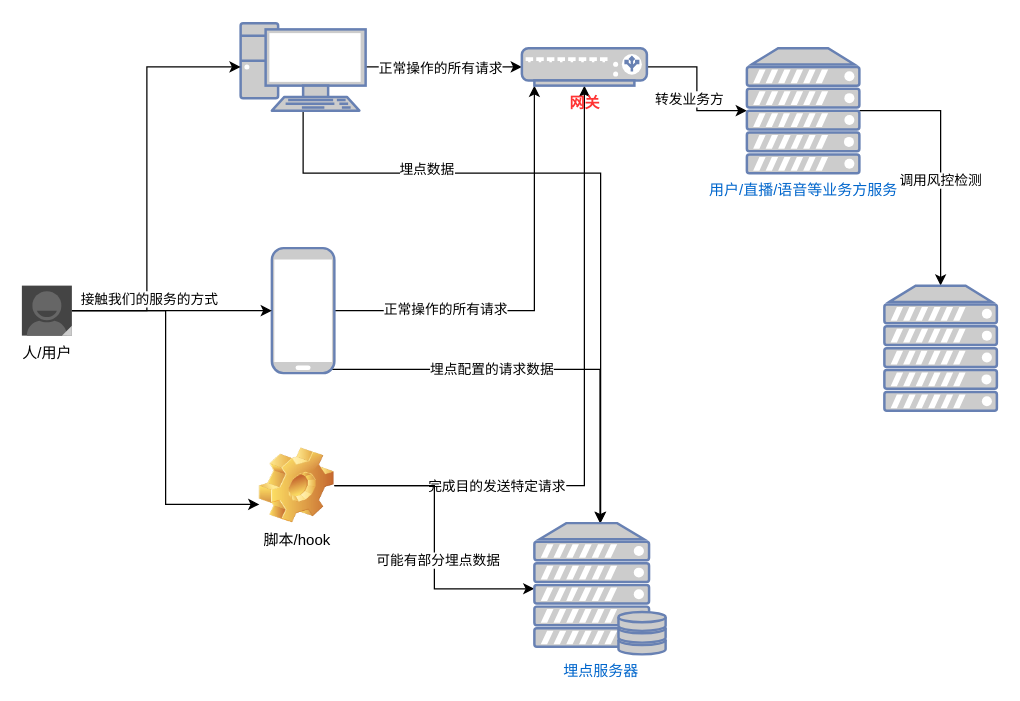
Some shapes in this 1020 by 701 pixel diagram are drawn without their labels. Each missing label, with the centre of its shape:
"pc/h5浏览器等" goes at point 302,66.
"手机app/小程序" goes at point 302,310.
"风控服务" goes at point 940,347.
